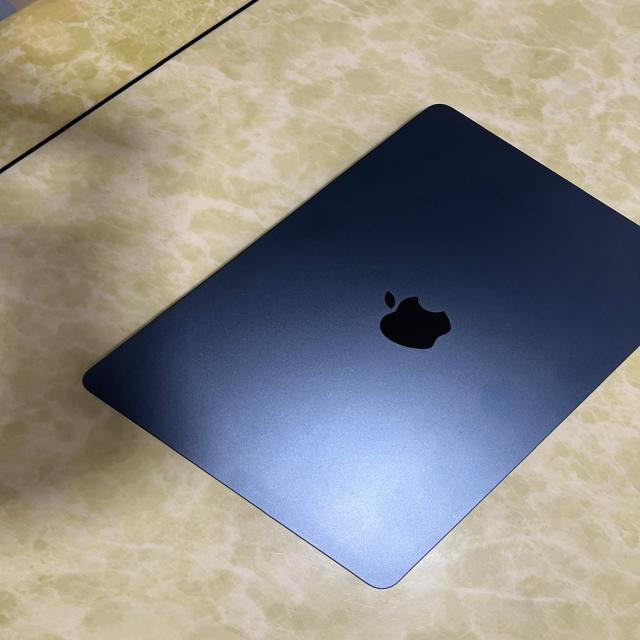laptop: (80, 101, 639, 589)
